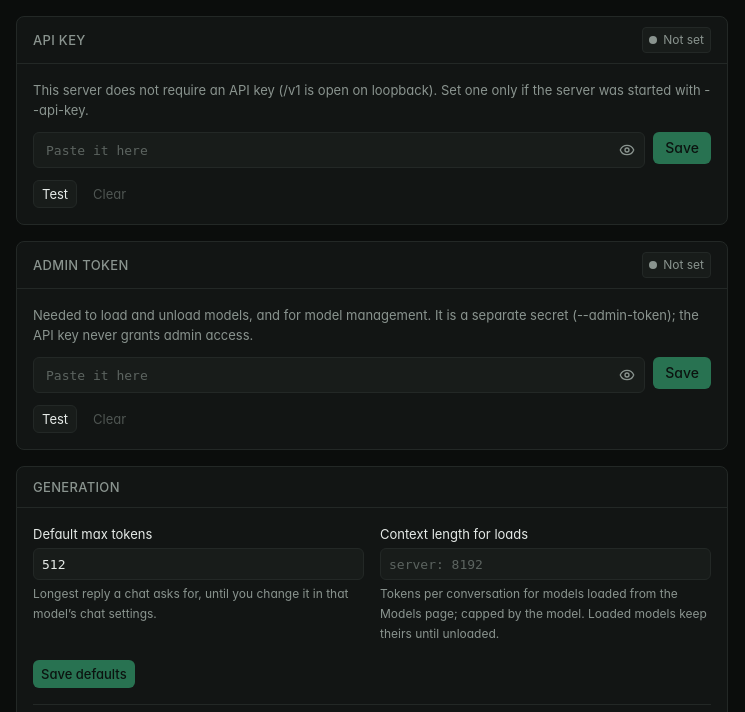
Test case: Settings: generation › saves the default max tokens and the load context in this browser
Replace the text in the field labelled "Default max tokens" with "1024" at (198, 564), box [33,548,364,580]
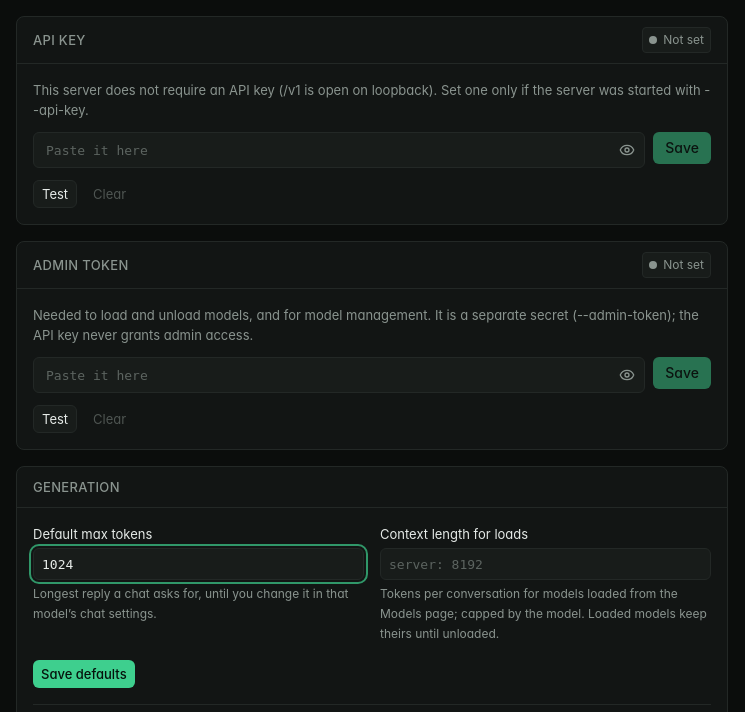
Type "16384" into the field labelled "Context length for loads".
click(546, 564); type("16384")  # box [380,548,711,580]
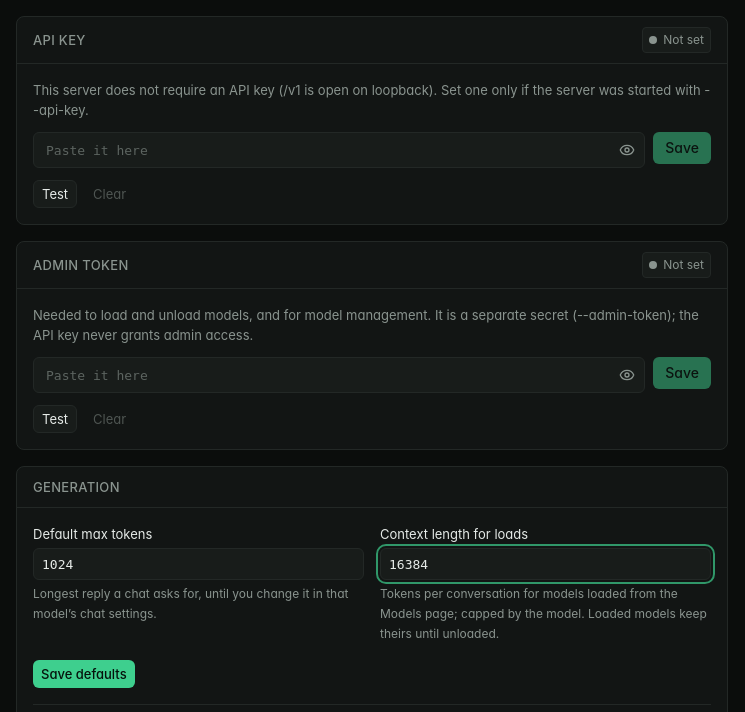
Click the button "Save defaults".
click(84, 674)  # box [33,660,135,688]
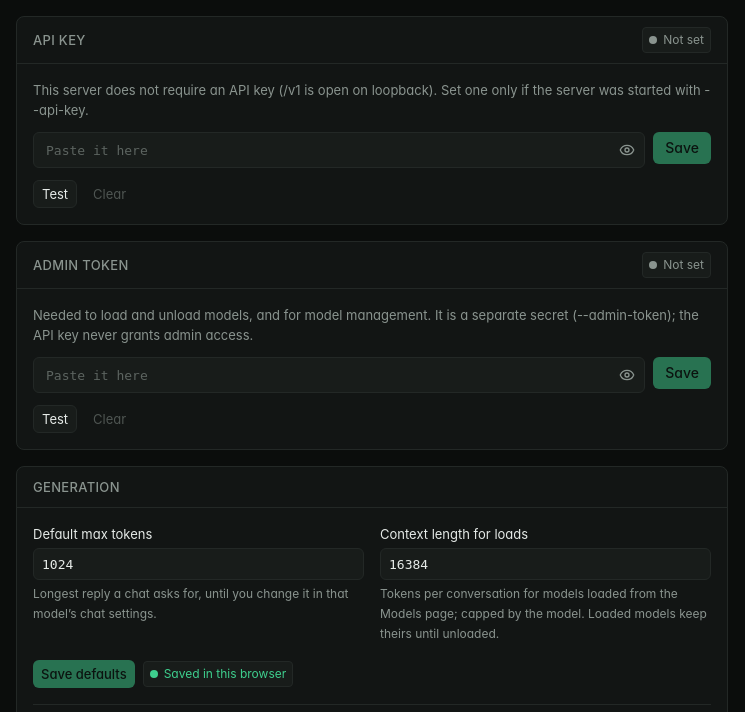
Result: the text "Saved in this browser" is shown at [143,661,293,687]
